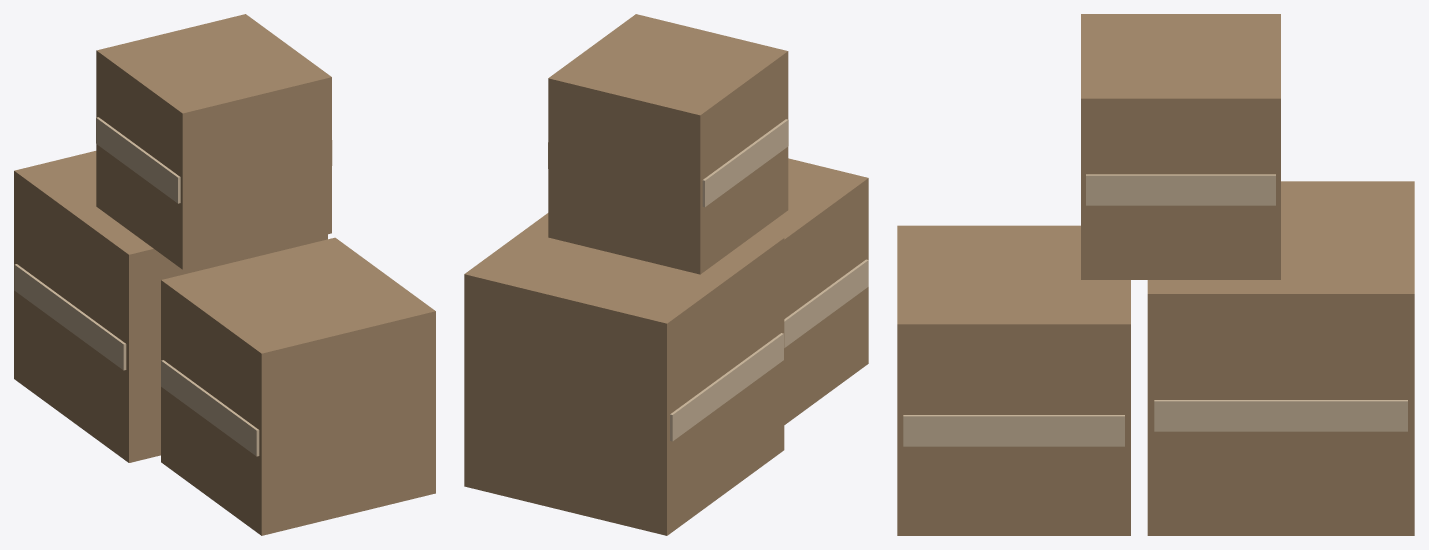
Rendered from SM_Prop_Crates.glb.
3 renders of one model, left to right at view 1: azimuth 30°, elevation 25°; view 2: azimuth 150°, elevation 25°; view 3: azimuth 270°, elevation 25°, orthographic. The views are drawn at different scales.
Visible parts, largest first — view 1: SM_Prop_Crates; view 2: SM_Prop_Crates; view 3: SM_Prop_Crates.
Part boxes in pixels (x1=…): SM_Prop_Crates: x1=14, y1=14, x2=435, y2=535; SM_Prop_Crates: x1=464, y1=14, x2=868, y2=535; SM_Prop_Crates: x1=897, y1=14, x2=1414, y2=535.
Size of the model in its own units: 0.82 by 1.4 by 1.55.
